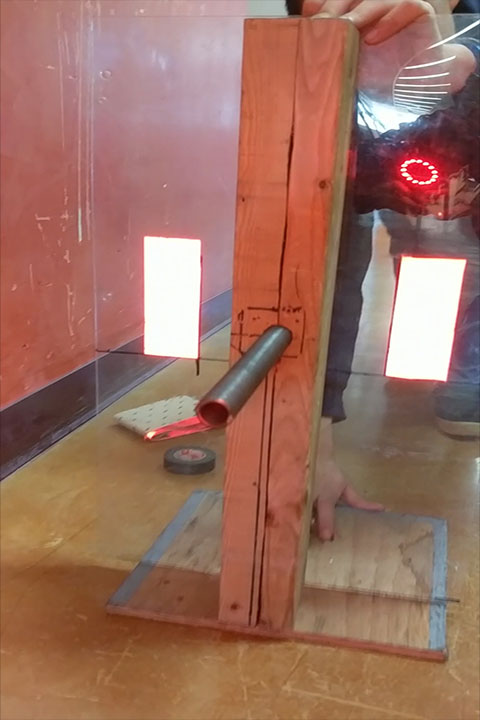gear: (383, 255, 468, 380), (143, 236, 201, 361)
